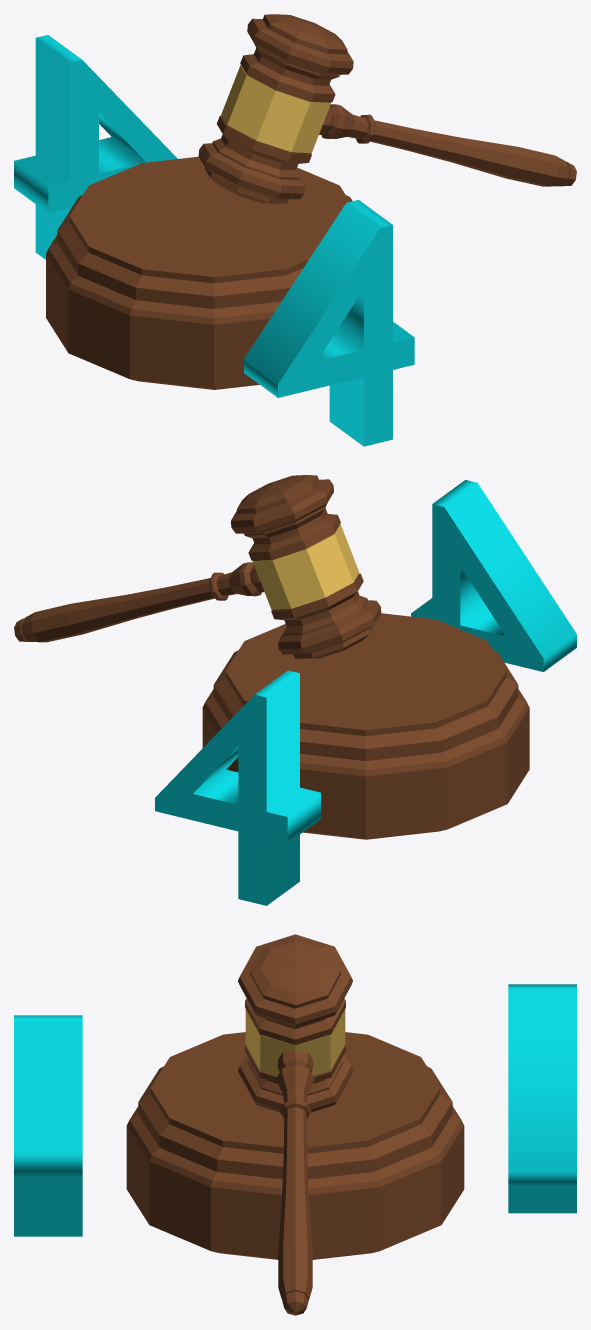
The model's file is number4.glb.
3 renders of one model, top to bottom at view 1: azimuth 30°, elevation 25°; view 2: azimuth 150°, elevation 25°; view 3: azimuth 270°, elevation 25°, orthographic. The views are drawn at different scales.
Visible parts, largest first — view 1: Node, Text.005, Text.001; view 2: Node, Text.001, Text.005; view 3: Node, Text.001, Text.005.
Boxes of the visible parts, left/top/right/bottom form: Node: left=46, top=14, right=576, bottom=389; Text.005: left=244, top=200, right=414, bottom=446; Text.001: left=14, top=35, right=177, bottom=259; Node: left=14, top=475, right=529, bottom=839; Text.001: left=155, top=670, right=320, bottom=905; Text.005: left=411, top=480, right=576, bottom=671; Node: left=126, top=934, right=464, bottom=1315; Text.001: left=508, top=984, right=576, bottom=1213; Text.005: left=14, top=1015, right=82, bottom=1236.
Size of the model in its own units: 3.2 by 1.86 by 3.08.
